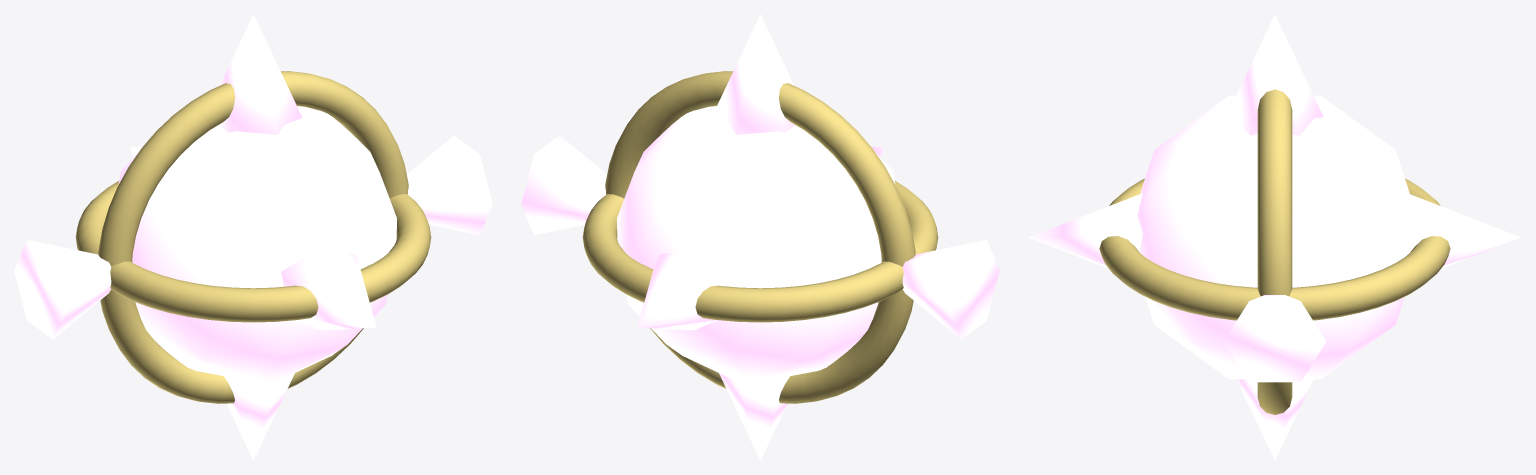
Rendered from hazard-flail.glb.
3 views of the same model, side by side, from view 1: azimuth 30°, elevation 25°; view 2: azimuth 150°, elevation 25°; view 3: azimuth 270°, elevation 25° (orthographic).
Visible parts, largest first — view 1: Icosphere, Torus.001, Torus, Cone.001, Cone, Cone.004, Cone.003, Cone.005; view 2: Icosphere, Torus.001, Torus, Cone.001, Cone, Cone.004, Cone.002, Cone.005; view 3: Icosphere, Torus, Torus.001, Cone, Cone.004, Cone.002, Cone.003, Cone.005.
Boxes of the visible parts, <box> form: Icosphere: <box>118,106,396,384</box>; Torus.001: <box>98,71,408,403</box>; Torus: <box>75,181,431,322</box>; Cone.001: <box>14,239,111,339</box>; Cone: <box>406,135,492,235</box>; Cone.004: <box>219,14,302,134</box>; Cone.003: <box>281,241,376,330</box>; Cone.005: <box>224,373,294,460</box>; Icosphere: <box>617,106,895,384</box>; Torus.001: <box>605,71,915,403</box>; Torus: <box>582,181,938,322</box>; Cone.001: <box>902,239,999,339</box>; Cone: <box>521,135,607,235</box>; Cone.004: <box>711,14,794,134</box>; Cone.002: <box>637,241,732,330</box>; Cone.005: <box>719,373,789,460</box>; Icosphere: <box>1137,95,1412,379</box>; Torus: <box>1099,178,1450,320</box>; Torus.001: <box>1257,89,1292,414</box>; Cone: <box>1223,295,1326,382</box>; Cone.004: <box>1226,14,1323,135</box>; Cone.002: <box>1407,193,1521,268</box>; Cone.003: <box>1028,193,1142,268</box>; Cone.005: <box>1236,379,1313,460</box>.
Bounding box in the file's own units: 1.72 × 1.72 × 1.72.
